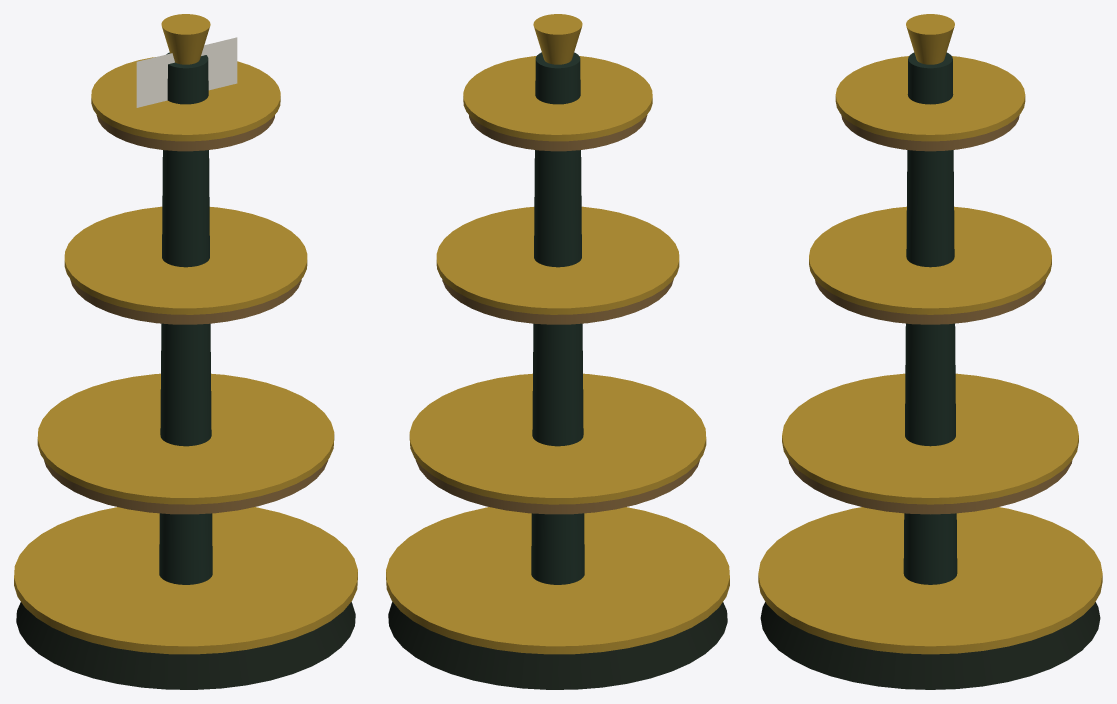
File: accessory-stand.glb
3 renders of one model, left to right at view 1: azimuth 30°, elevation 25°; view 2: azimuth 150°, elevation 25°; view 3: azimuth 270°, elevation 25°, orthographic.
Visible parts, largest first — view 1: base_ring, tier_rim_1, tier_rim_2, column, base, tier_rim_3, stand_label_slot, tier_1, tier_2, finial_cap, tier_3; view 2: base_ring, tier_rim_1, tier_rim_2, column, base, tier_rim_3, tier_1, tier_2, finial_cap, tier_3; view 3: base_ring, tier_rim_1, tier_rim_2, column, base, tier_rim_3, tier_1, tier_2, finial_cap, tier_3.
Boxes of the visible parts, bbox=[...] form: base_ring: bbox=[14, 507, 357, 654]; tier_rim_1: bbox=[37, 373, 334, 504]; tier_rim_2: bbox=[64, 206, 307, 314]; column: bbox=[159, 52, 212, 584]; base: bbox=[16, 602, 355, 689]; tier_rim_3: bbox=[91, 57, 280, 141]; stand_label_slot: bbox=[136, 37, 237, 107]; tier_1: bbox=[44, 460, 328, 514]; tier_2: bbox=[70, 279, 301, 324]; finial_cap: bbox=[161, 14, 210, 64]; tier_3: bbox=[96, 115, 274, 151]; base_ring: bbox=[386, 507, 729, 654]; tier_rim_1: bbox=[409, 373, 706, 504]; tier_rim_2: bbox=[436, 206, 679, 314]; column: bbox=[531, 52, 584, 584]; base: bbox=[388, 602, 727, 689]; tier_rim_3: bbox=[463, 56, 652, 141]; tier_1: bbox=[415, 460, 699, 514]; tier_2: bbox=[442, 279, 673, 324]; finial_cap: bbox=[533, 14, 582, 64]; tier_3: bbox=[469, 115, 647, 151]; base_ring: bbox=[758, 507, 1102, 654]; tier_rim_1: bbox=[782, 373, 1078, 504]; tier_rim_2: bbox=[809, 206, 1051, 314]; column: bbox=[903, 52, 957, 584]; base: bbox=[760, 602, 1100, 689]; tier_rim_3: bbox=[835, 56, 1025, 141]; tier_1: bbox=[788, 460, 1072, 514]; tier_2: bbox=[815, 280, 1045, 324]; finial_cap: bbox=[906, 14, 954, 64]; tier_3: bbox=[841, 115, 1019, 151].
Bounding box in the file's own units: 0.77 × 1.47 × 0.77.
